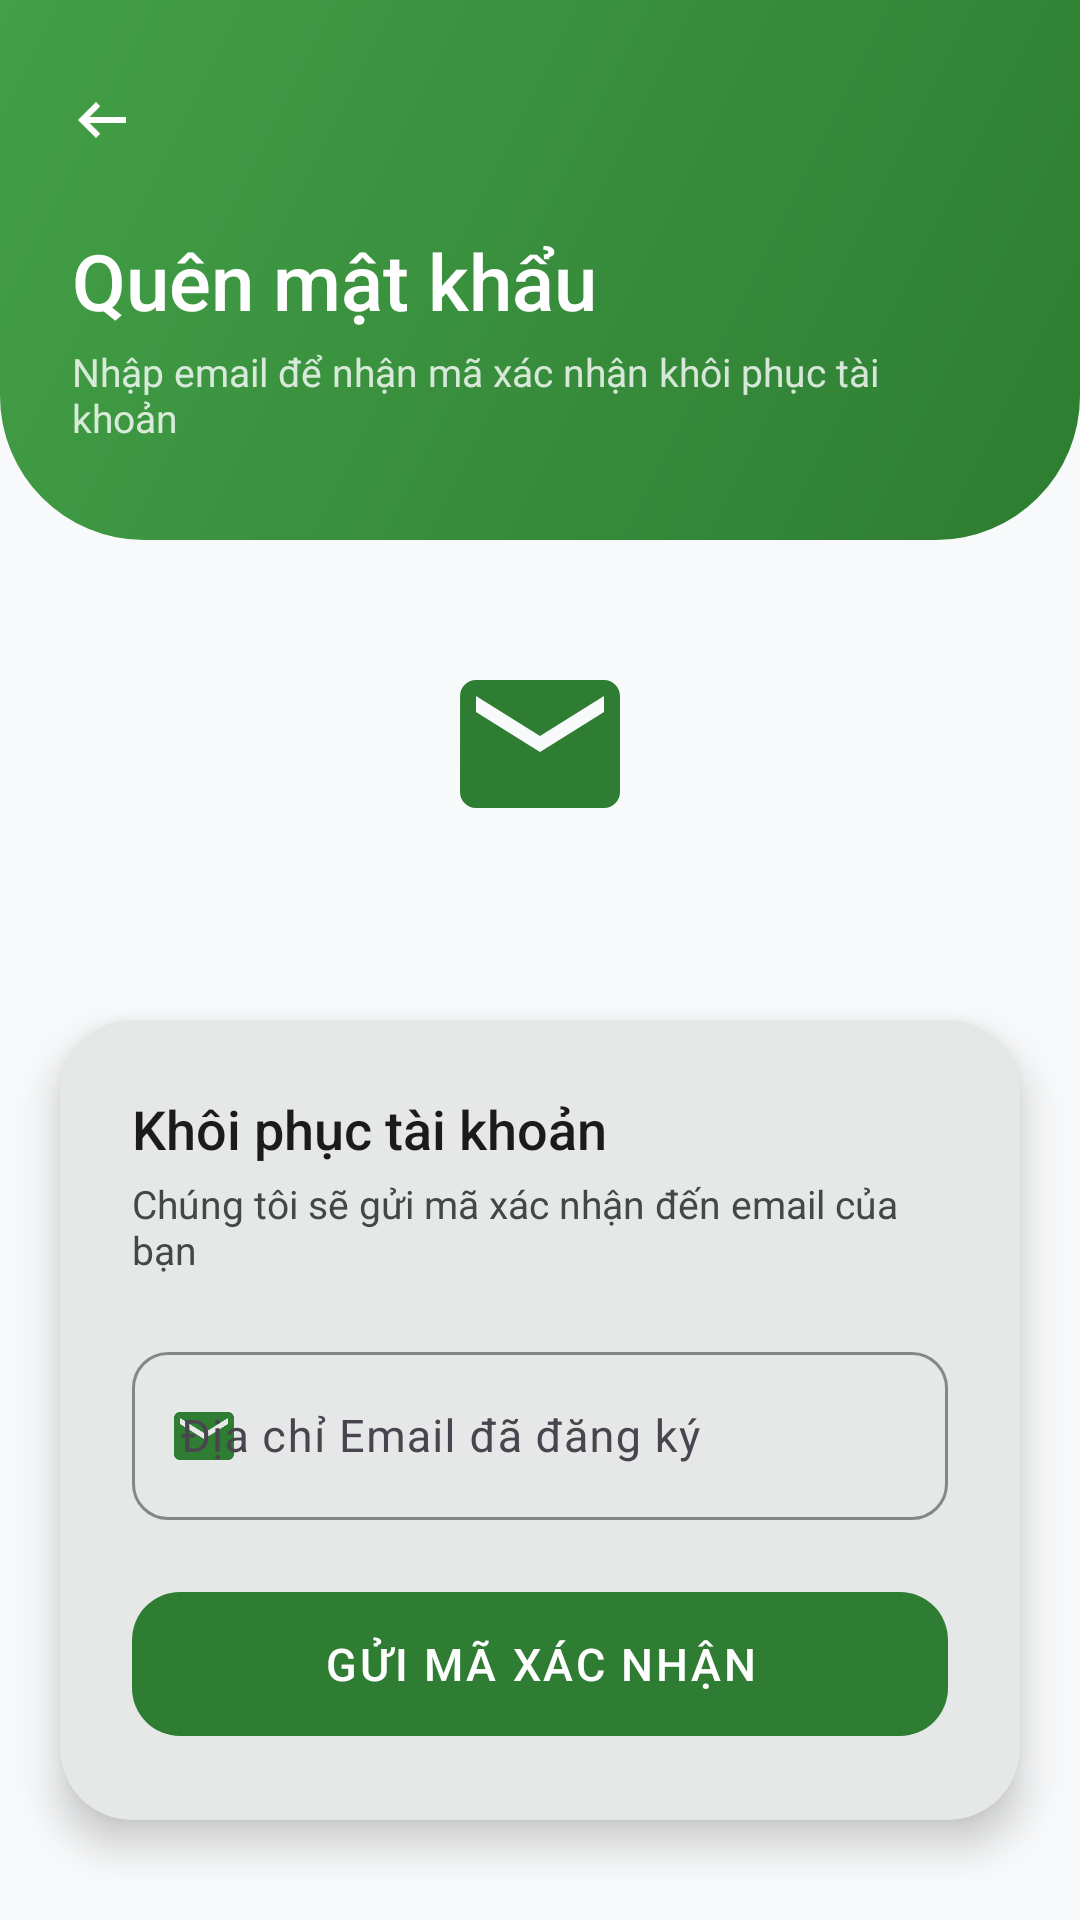

Named icons in this screenshot (1080 x 1920) and their bounding boxes, bbox(x1, y1, x2, y2):
arrow back: bbox(78, 102, 126, 138)
Email illustration: bbox(460, 680, 620, 808)
